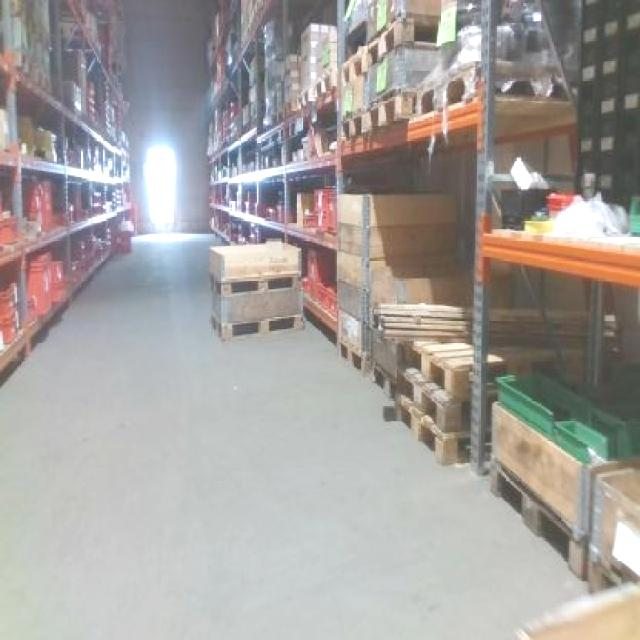floor: (0, 232, 583, 637)
pallets: (209, 240, 300, 337)
